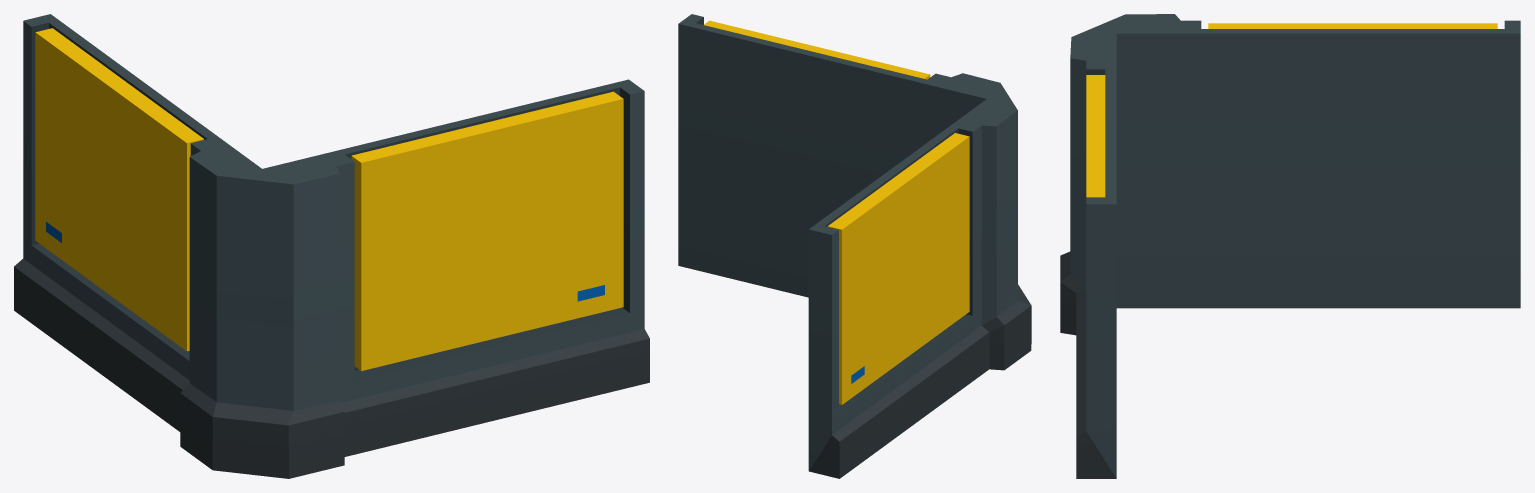
File: Wall_type_C_037.fbx
3 renders of one model, left to right at view 1: azimuth 30°, elevation 25°; view 2: azimuth 150°, elevation 25°; view 3: azimuth 270°, elevation 25°, orthographic. The views are drawn at different scales.
Visible parts, largest first — view 1: Wall_type_C_037; view 2: Wall_type_C_037; view 3: Wall_type_C_037.
Boxes of the visible parts, bbox=[...] form: Wall_type_C_037: bbox=[14, 14, 649, 478]; Wall_type_C_037: bbox=[678, 14, 1031, 478]; Wall_type_C_037: bbox=[1060, 14, 1520, 478].
Bounding box in the file's own units: 228 × 228 × 150.
